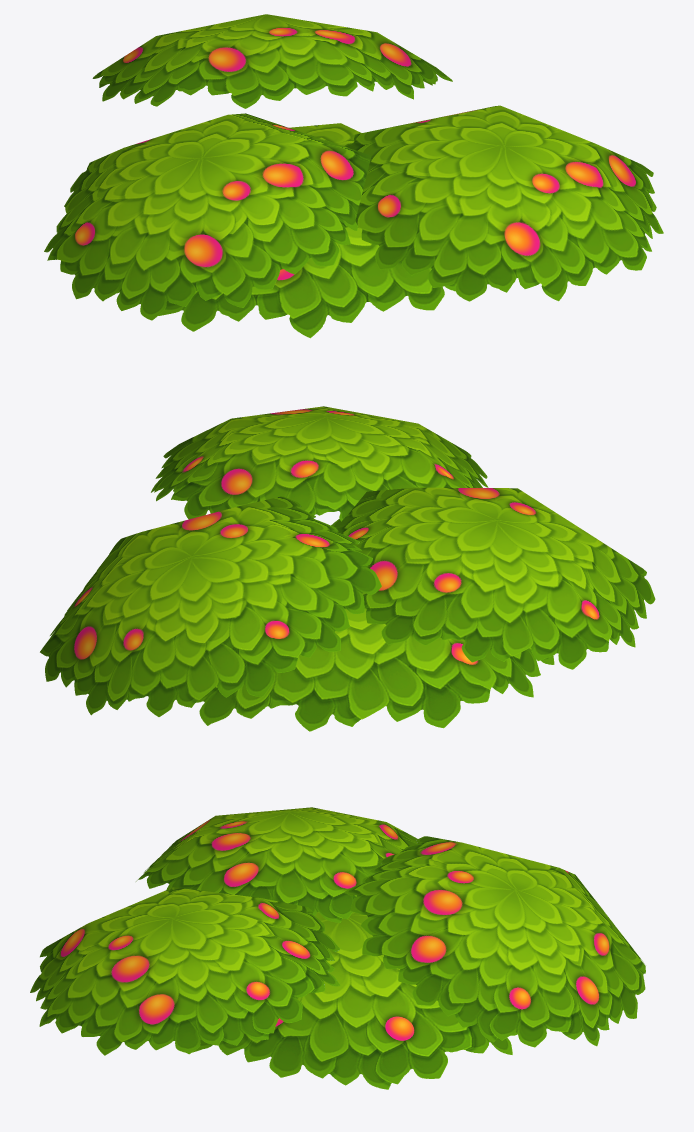
The model's file is Bush_01.FBX.
3 views of the same model, one above another, from view 1: azimuth 30°, elevation 25°; view 2: azimuth 150°, elevation 25°; view 3: azimuth 270°, elevation 25° (orthographic). The views are drawn at different scales.
Visible parts, largest first — view 1: Bush_01; view 2: Bush_01; view 3: Bush_01.
Boxes of the visible parts, left/top/right/bottom form: Bush_01: left=44, top=14, right=663, bottom=338; Bush_01: left=40, top=406, right=655, bottom=731; Bush_01: left=30, top=807, right=645, bottom=1089.
Bounding box in the file's own units: 122 × 36.09 × 131.
